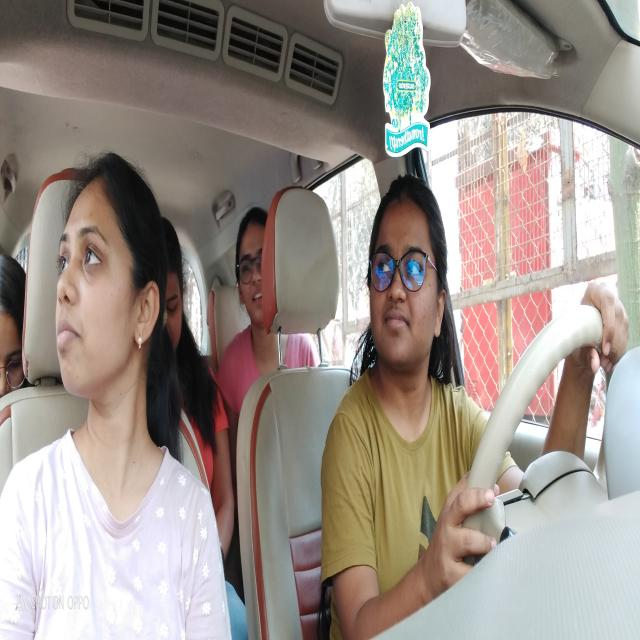LeftRight: (366, 168, 450, 385)
person: (52, 147, 166, 402), (0, 249, 29, 410), (234, 200, 267, 328), (166, 212, 189, 360)
